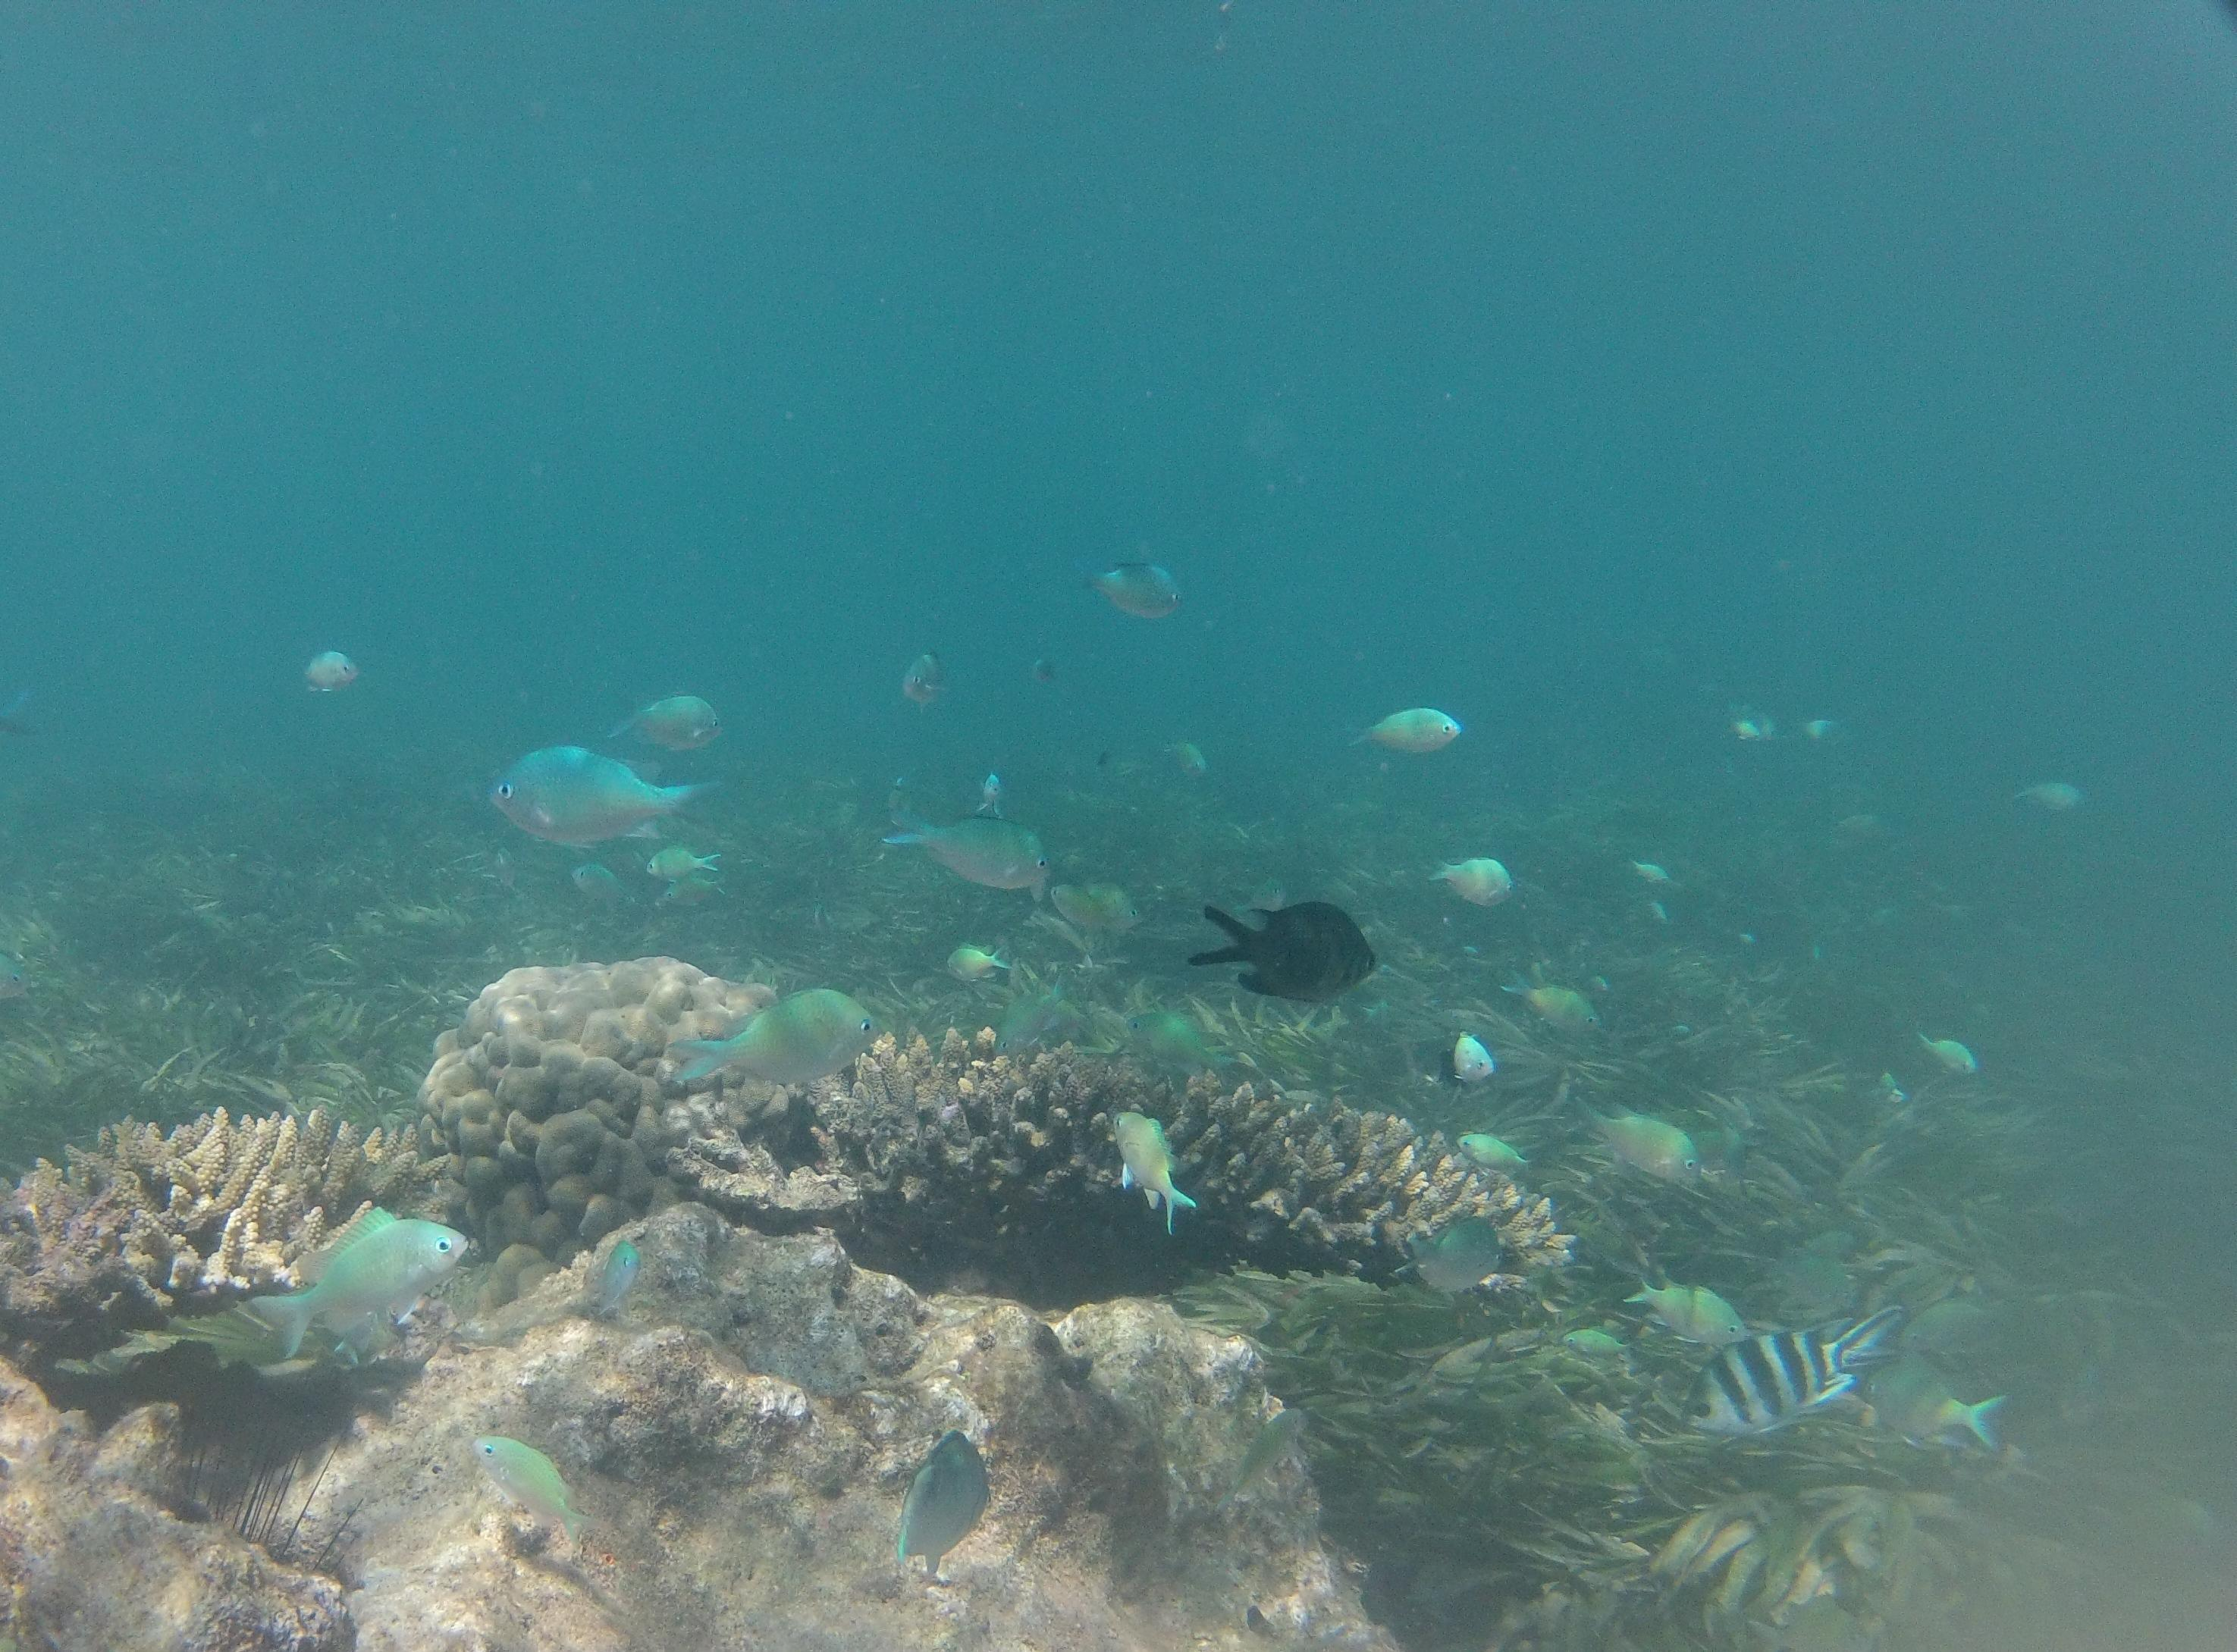Chromis weberi: (195, 1199, 493, 1407), (481, 691, 721, 915), (644, 981, 938, 1140), (1579, 1080, 1737, 1214), (448, 1414, 613, 1539), (1080, 1077, 1198, 1232), (1339, 686, 1509, 766), (1422, 836, 1523, 915), (865, 759, 872, 761)
